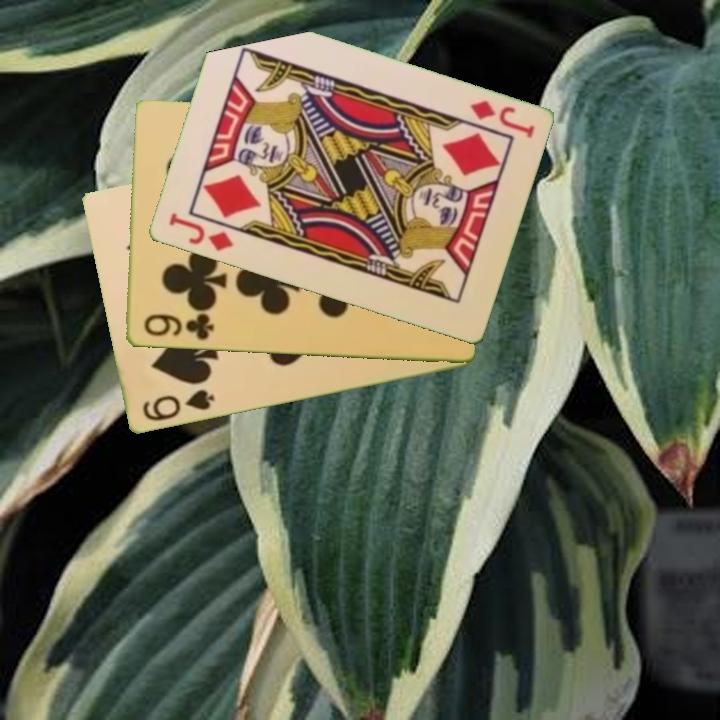6s: (138, 386, 217, 425)
9c: (140, 311, 217, 344)
Jd: (164, 209, 236, 255), (466, 97, 537, 142)
